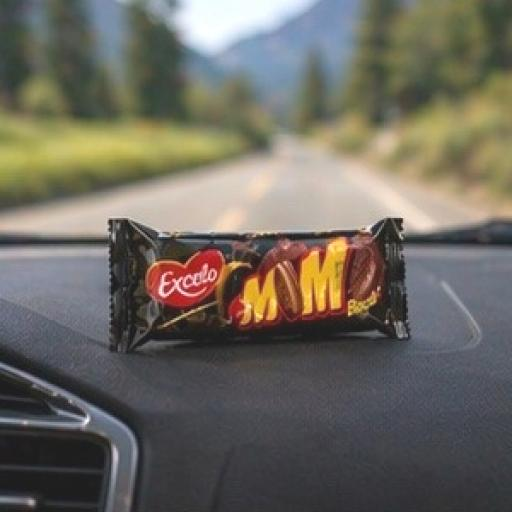MOMO: (52, 175, 478, 453)
